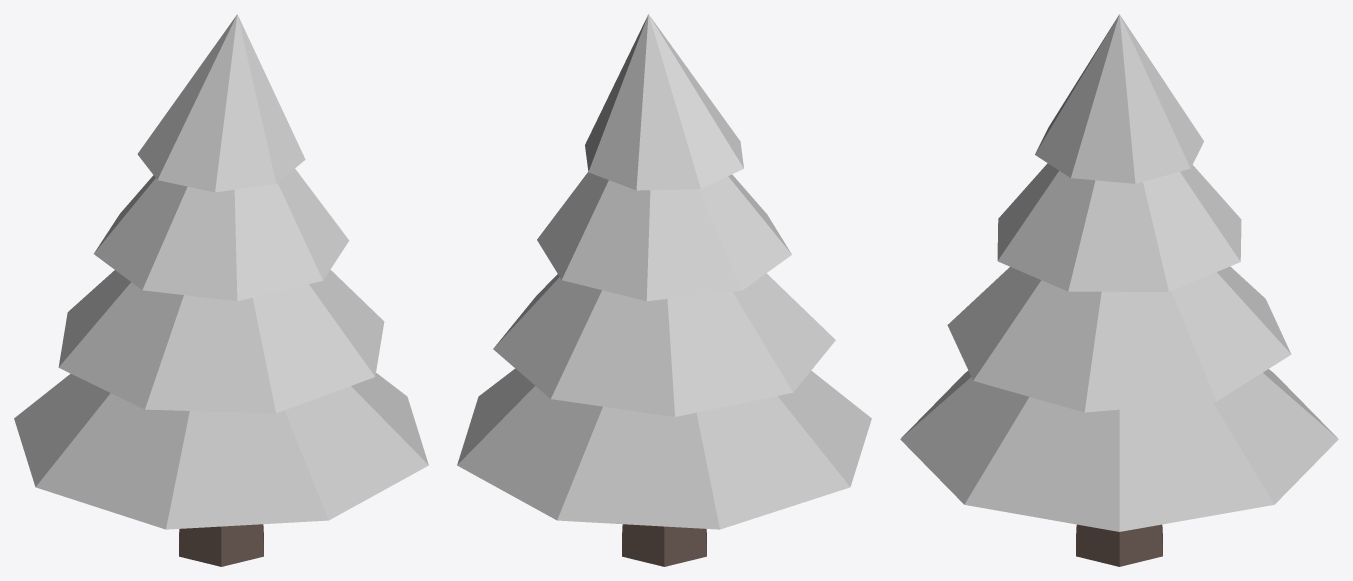
The model's file is prop_pine.glb.
3 views of the same model, side by side, from view 1: azimuth 30°, elevation 25°; view 2: azimuth 150°, elevation 25°; view 3: azimuth 270°, elevation 25° (orthographic). The views are drawn at different scales.
Visible parts, largest first — view 1: tint, body; view 2: tint, body; view 3: tint, body.
Part boxes in pixels (x1=…): tint: x1=14, y1=14, x2=428, y2=529; body: x1=179, y1=524, x2=263, y2=566; tint: x1=457, y1=14, x2=871, y2=529; body: x1=622, y1=524, x2=706, y2=566; tint: x1=900, y1=14, x2=1338, y2=531; body: x1=1076, y1=524, x2=1162, y2=566.
Size of the model in its own units: 2.8 by 3.8 by 2.8.
